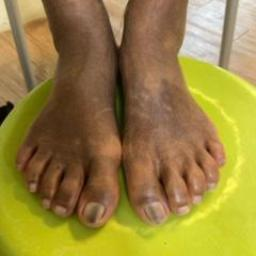Dorsal View -Both Feet-: (6, 13, 244, 245)
